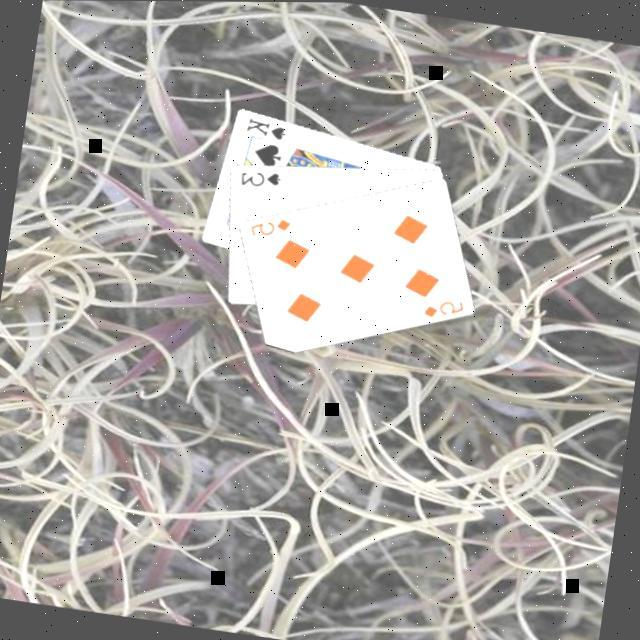3S: (236, 165, 285, 195)
5D: (419, 293, 468, 326), (247, 212, 295, 245)
KS: (242, 114, 291, 144)
